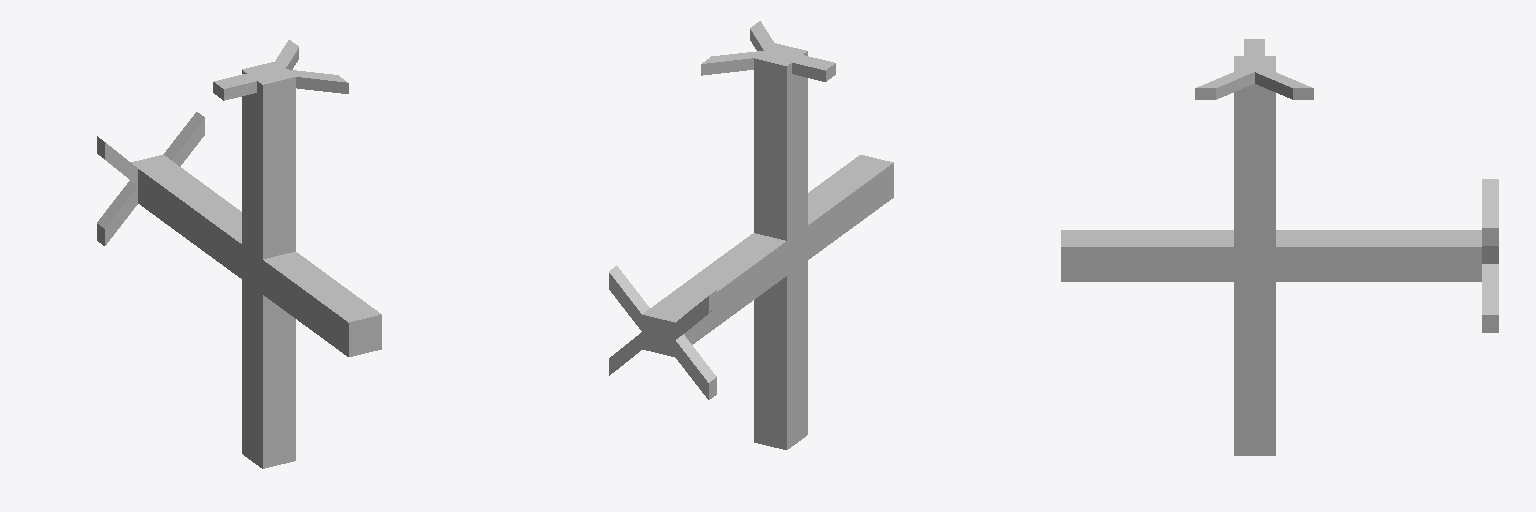
File: axis.obj
The picture shows the model from 3 angles: view 1: azimuth 30°, elevation 25°; view 2: azimuth 150°, elevation 25°; view 3: azimuth 270°, elevation 25°; orthographic projection.
Visible parts, largest first — view 1: Cube; view 2: Cube; view 3: Cube.
Part boxes in pixels (left/top/right/bottom): Cube: left=97, top=40, right=381, bottom=468; Cube: left=609, top=21, right=893, bottom=449; Cube: left=1061, top=39, right=1498, bottom=455.
Size of the model in its own units: 15 by 55 by 56.74.